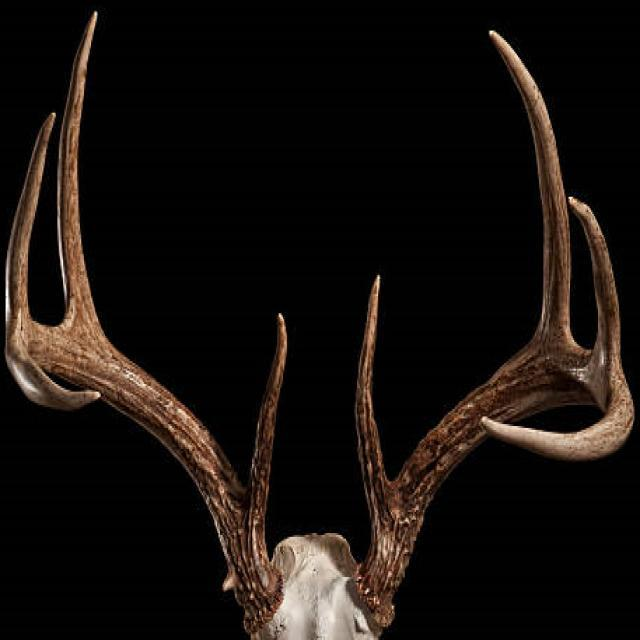E1: (222, 573, 236, 592)
L-G1: (353, 273, 392, 538)
L-G2: (489, 27, 571, 339)
L-G3: (568, 195, 622, 366)
R-F: (5, 324, 286, 635)
R-G1: (245, 310, 288, 531)
R-G2: (57, 10, 102, 332)
R-G3: (5, 112, 57, 330)
